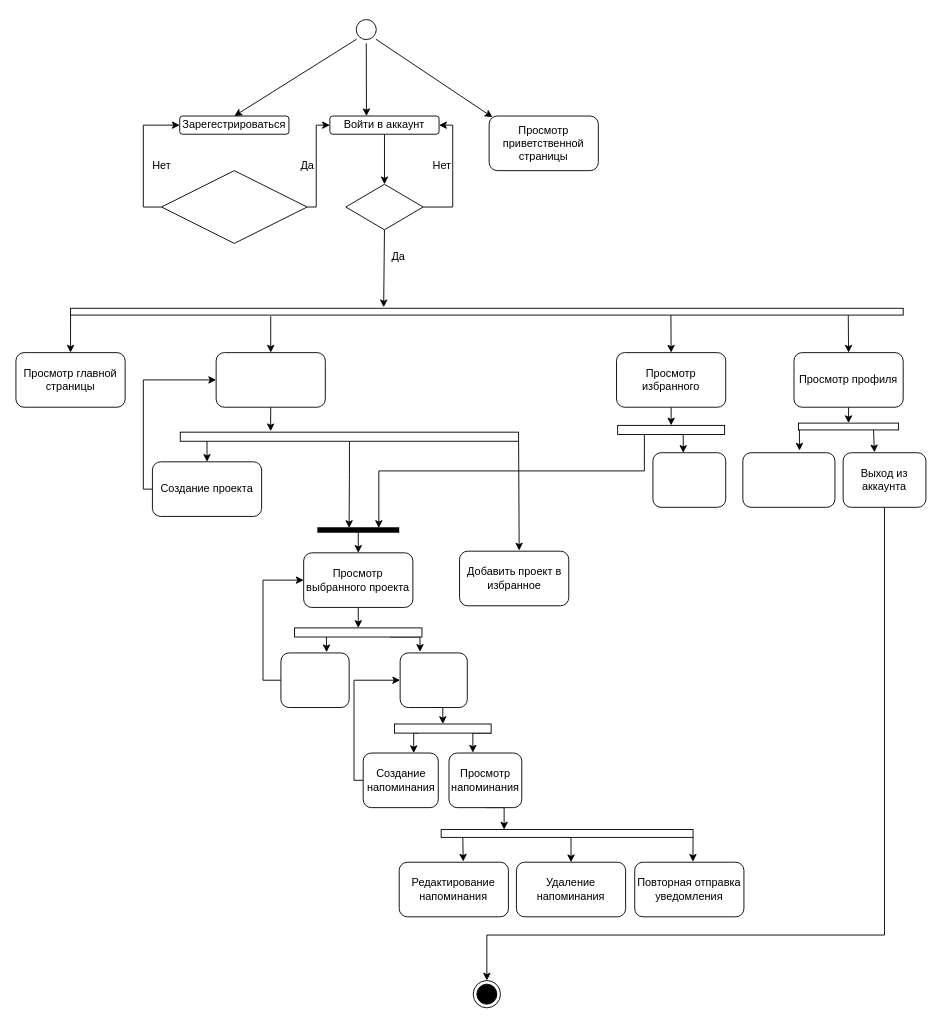
Some shapes in this 942 by 1024 pixel diagram are drawn without their labels. The box of each missing label's shape, as (x1, y1, x2, y2) in pixels:
Данные верны?: (345, 183, 423, 230)
Просмотр проектов: (215, 352, 325, 407)
Просмотр секции: (399, 652, 467, 708)
Регистрация пройдена успешно?: (161, 170, 307, 243)
Редактирование профиля: (742, 452, 835, 507)
Создание секции: (280, 652, 349, 708)
Удалить из избранного: (652, 452, 726, 507)
